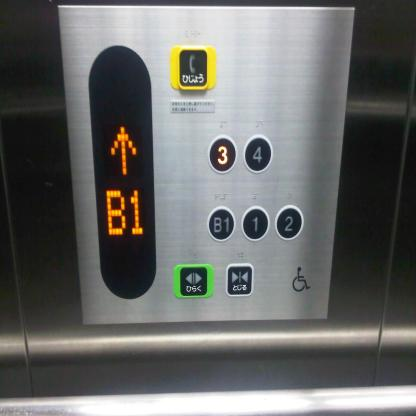1: (240, 205, 269, 242)
2: (274, 204, 304, 241)
3: (206, 134, 238, 175)
4: (241, 133, 273, 174)
B1: (206, 206, 236, 244)
CH: (288, 264, 312, 294)
call: (170, 46, 216, 92)
close: (226, 263, 254, 297)
led: (86, 42, 157, 302)
open: (172, 264, 214, 298)
